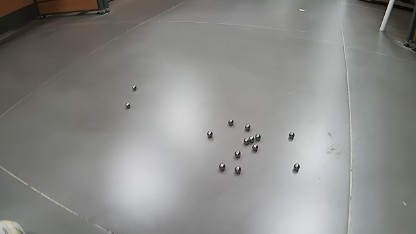ironball: (251, 143, 258, 151), (234, 166, 241, 173), (234, 150, 241, 157), (293, 163, 300, 170), (207, 130, 213, 138), (219, 163, 225, 170), (244, 124, 251, 130), (243, 137, 249, 144), (228, 119, 234, 126), (289, 132, 295, 139), (248, 136, 254, 143), (255, 133, 260, 141), (125, 102, 130, 108), (132, 85, 137, 90), (105, 8, 110, 13)
